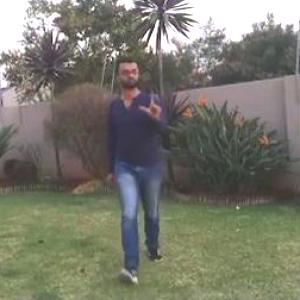land_hand: (138, 86, 166, 124)
